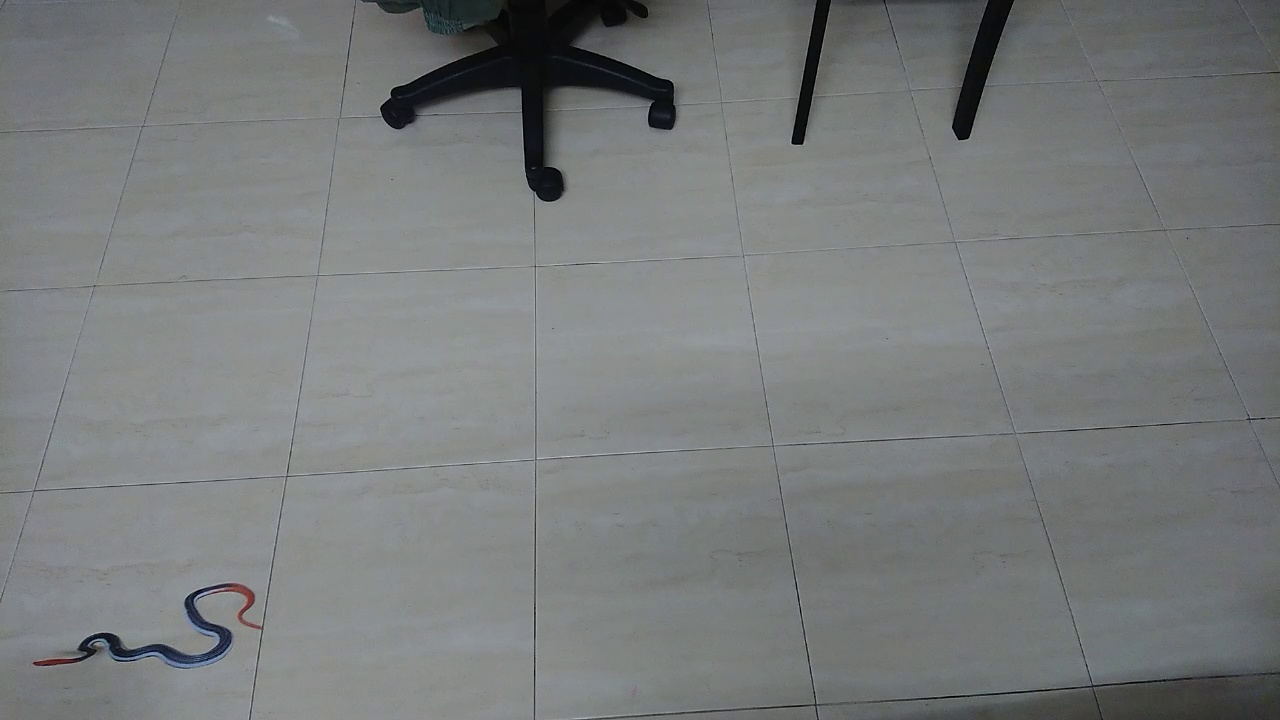snake: (20, 572, 270, 680)
